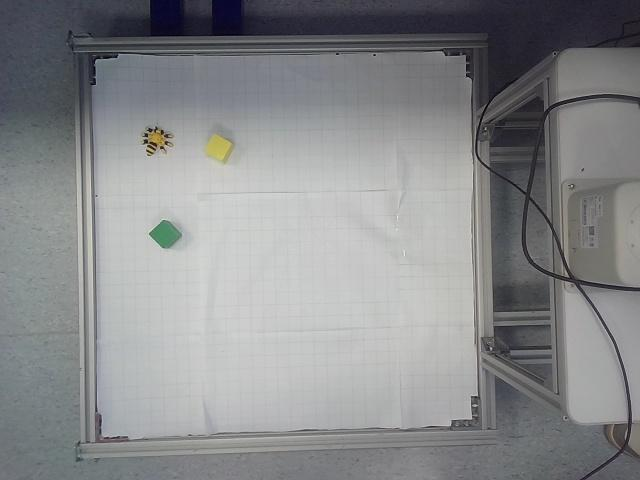frelon: (142, 126, 174, 156)
